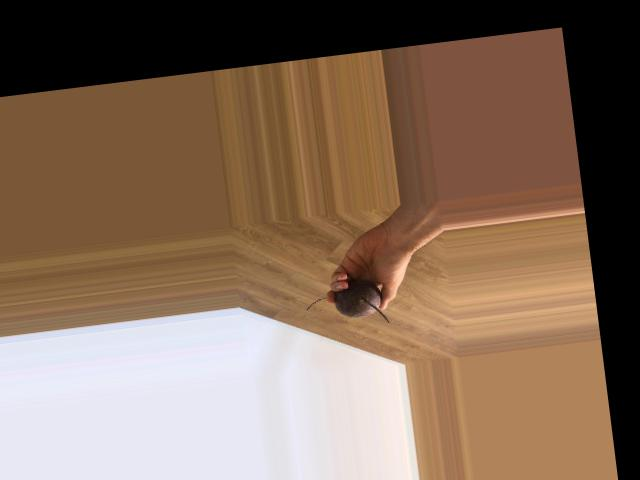beet: (303, 276, 388, 332)
